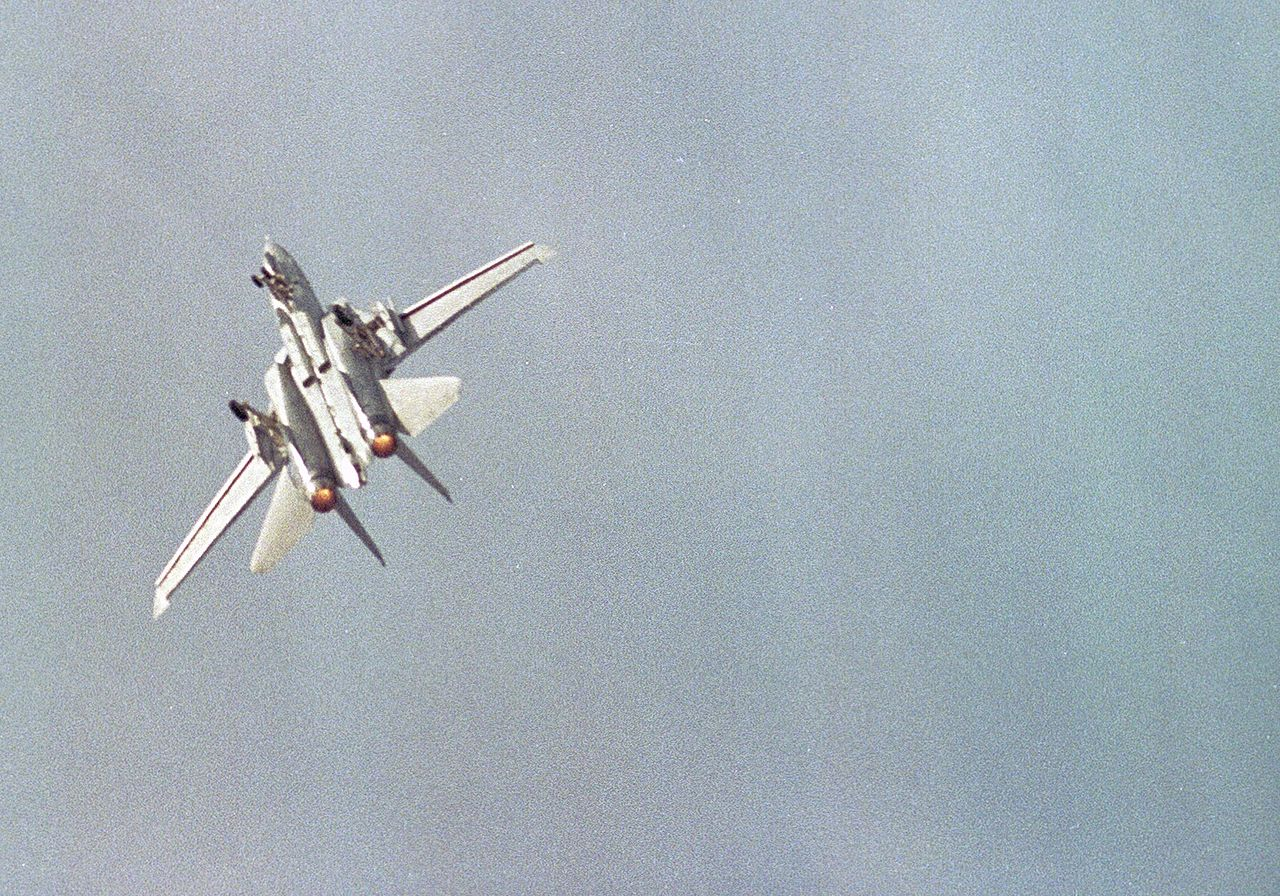F14: (151, 237, 558, 620)
